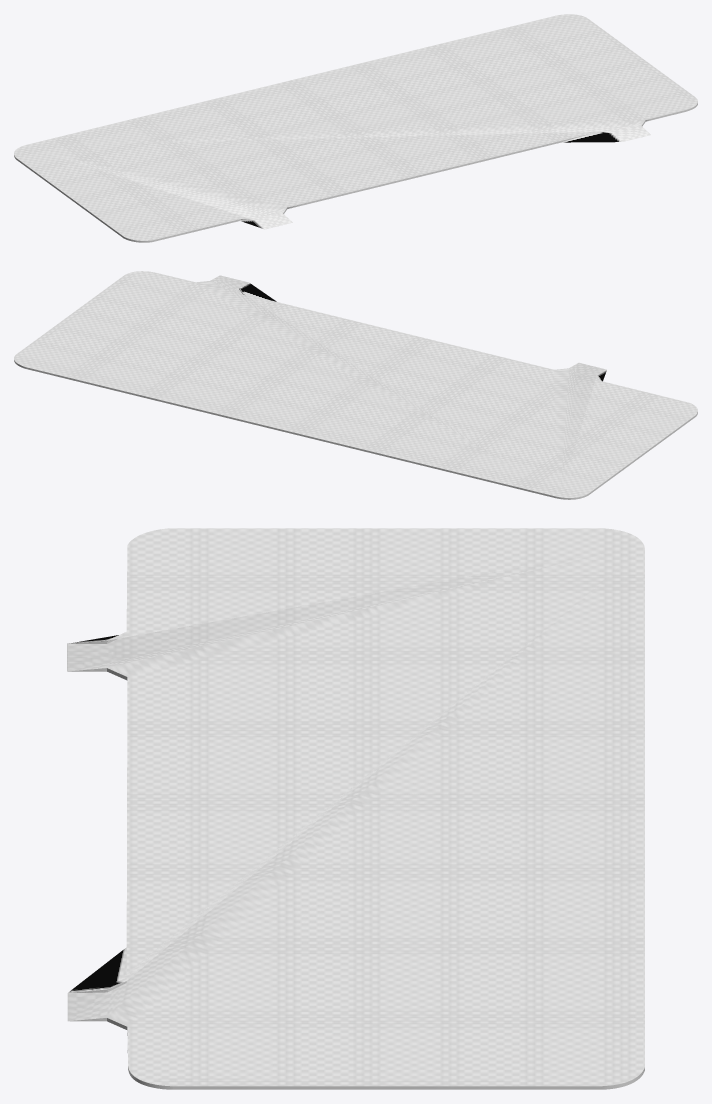
The model's file is PETRONAS MESRA base.fbx.
3 renders of one model, top to bottom at view 1: azimuth 30°, elevation 25°; view 2: azimuth 150°, elevation 25°; view 3: azimuth 270°, elevation 25°, orthographic. The views are drawn at different scales.
Visible parts, largest first — view 1: base_mesra_1; view 2: base_mesra_1; view 3: base_mesra_1.
Part boxes in pixels (bbox=[...]): base_mesra_1: bbox=[14, 14, 697, 242]; base_mesra_1: bbox=[14, 271, 697, 499]; base_mesra_1: bbox=[67, 528, 644, 1089].
Bounding box in the file's own units: 3765 × 11.18 × 1648.
Materials: 1 (1 with a texture image).
